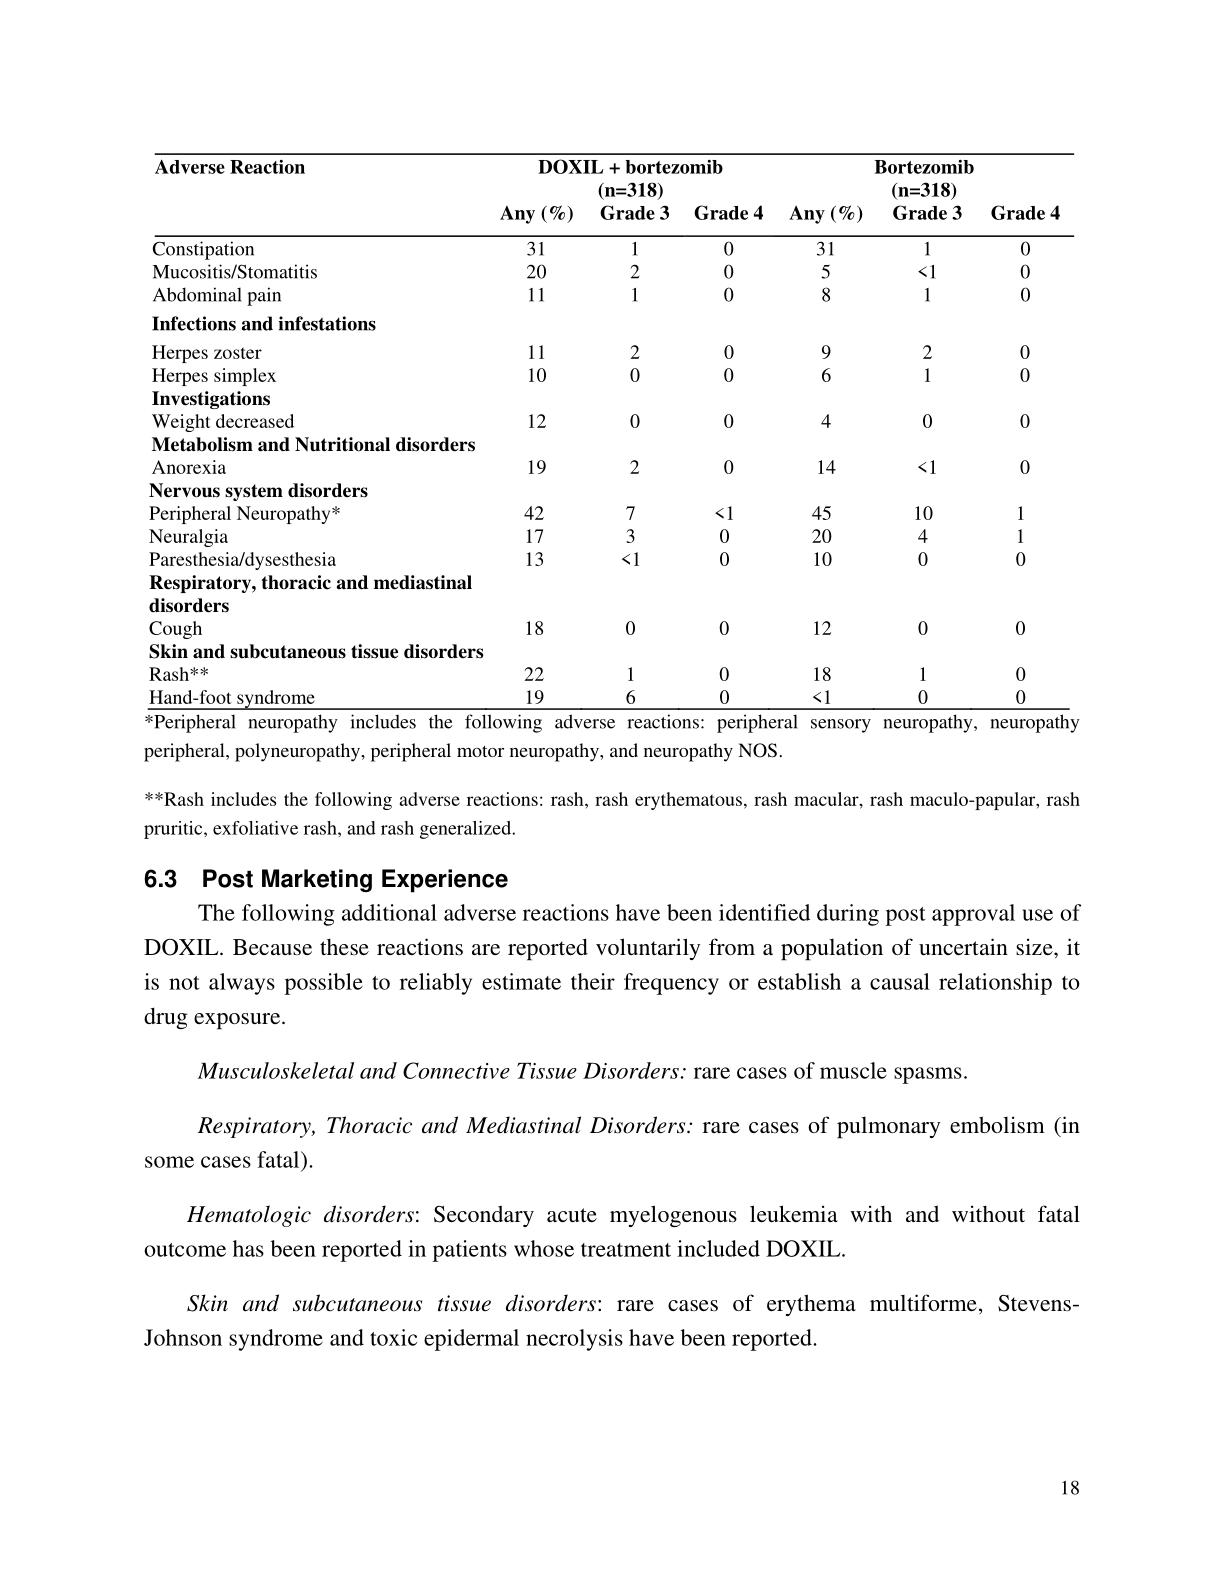partial_lined_merged_cells: (147, 152, 1074, 711)
